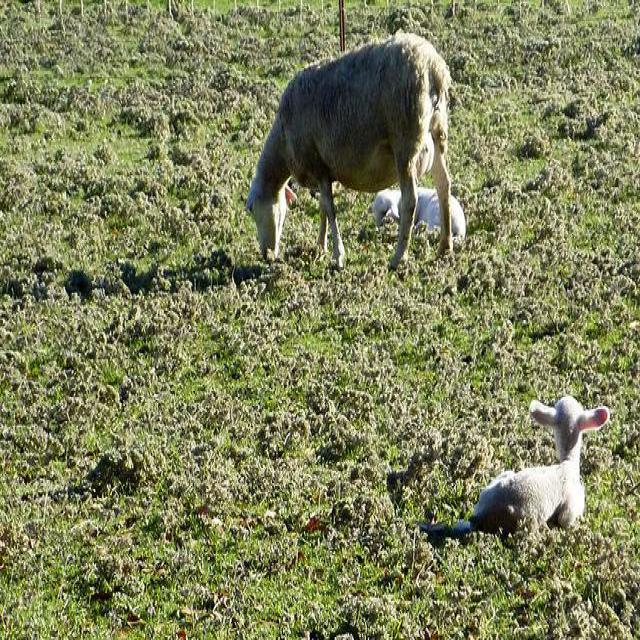Sheep: (245, 32, 452, 273), (456, 392, 606, 540), (365, 189, 467, 243)
